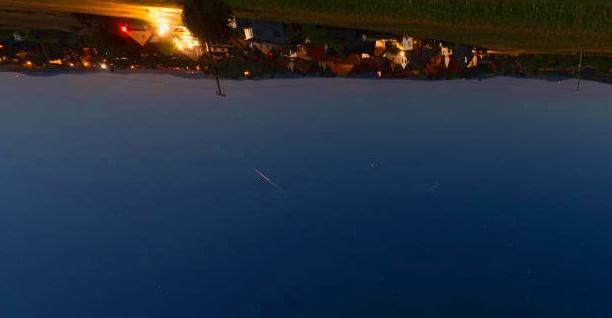meteorite: (242, 166, 296, 193)
